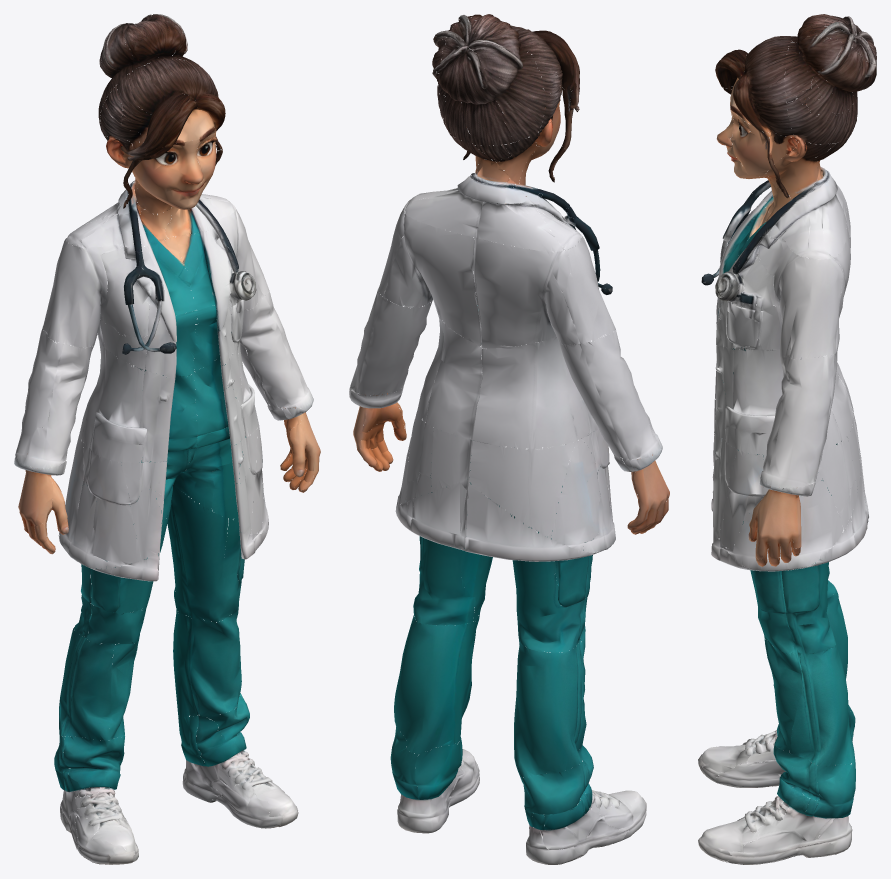
The model's file is dra-reis-arena.glb.
3 views of the same model, side by side, from view 1: azimuth 30°, elevation 25°; view 2: azimuth 150°, elevation 25°; view 3: azimuth 270°, elevation 25° (orthographic). The views are drawn at different scales.
Visible parts, largest first — view 1: tripo_node_3d214e2b-e6c8-4c3d-ab51-7194439338ef; view 2: tripo_node_3d214e2b-e6c8-4c3d-ab51-7194439338ef; view 3: tripo_node_3d214e2b-e6c8-4c3d-ab51-7194439338ef.
Part boxes in pixels (x1,y1,x2,y2): tripo_node_3d214e2b-e6c8-4c3d-ab51-7194439338ef: [14, 14, 320, 864]; tripo_node_3d214e2b-e6c8-4c3d-ab51-7194439338ef: [349, 14, 669, 864]; tripo_node_3d214e2b-e6c8-4c3d-ab51-7194439338ef: [698, 14, 876, 864].
Size of the model in its own units: 0.3796 by 0.9785 by 0.198.
Materials: 1 (1 with a texture image).
